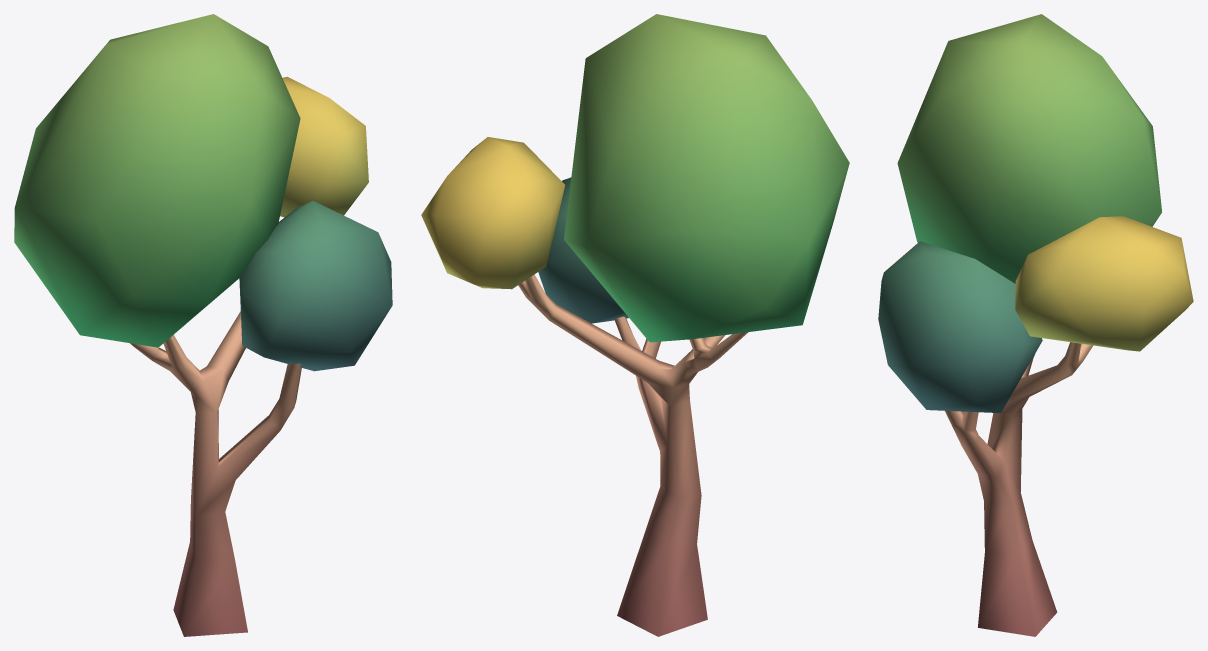
The model's file is Tree_Oak_02.fbx.
The picture shows the model from 3 angles, left to right: view 1: azimuth 30°, elevation 25°; view 2: azimuth 150°, elevation 25°; view 3: azimuth 270°, elevation 25°; orthographic projection. The views are drawn at different scales.
Parts seen in each view (by area): view 1: Tree_Oak_02, Tree_Oak_02_Trunk; view 2: Tree_Oak_02, Tree_Oak_02_Trunk; view 3: Tree_Oak_02, Tree_Oak_02_Trunk.
Boxes of the visible parts, left/top/right/bottom form: Tree_Oak_02: left=14, top=14, right=392, bottom=371; Tree_Oak_02_Trunk: left=130, top=311, right=301, bottom=636; Tree_Oak_02: left=421, top=14, right=849, bottom=342; Tree_Oak_02_Trunk: left=518, top=274, right=748, bottom=636; Tree_Oak_02: left=878, top=14, right=1193, bottom=413; Tree_Oak_02_Trunk: left=945, top=342, right=1093, bottom=636.
Bounding box in the file's own units: 488 × 802 × 396.
